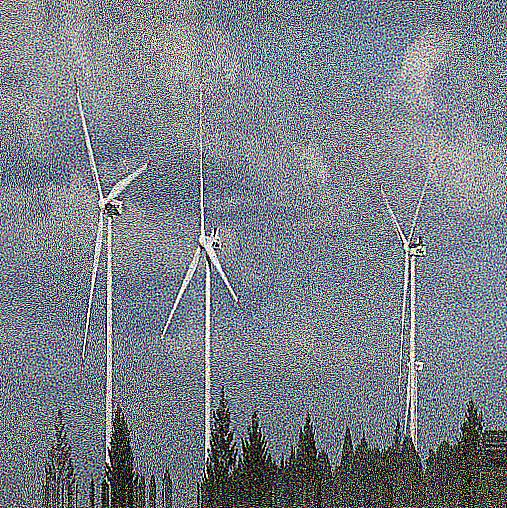wind turbine: (161, 91, 242, 475), (71, 76, 149, 471), (379, 161, 434, 458)
